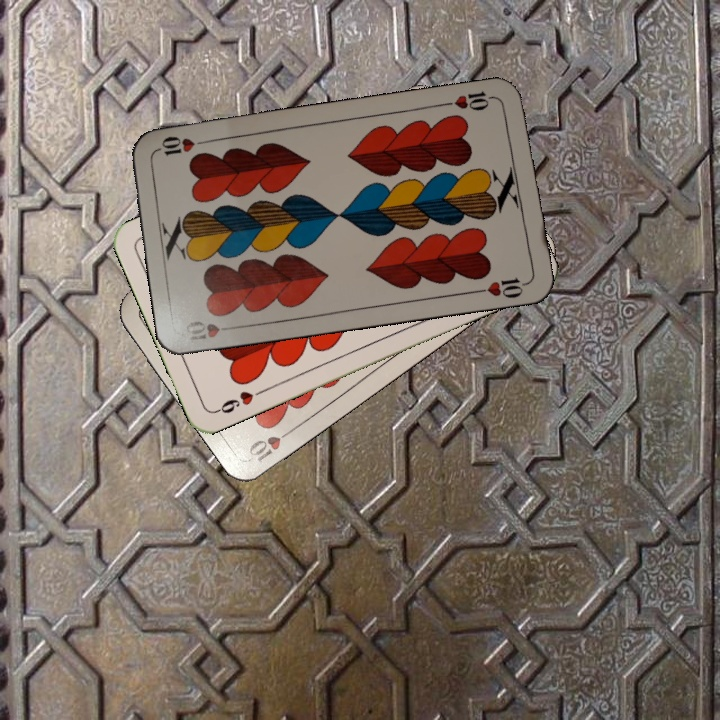H10: (243, 423, 299, 467), (181, 316, 240, 345), (441, 87, 500, 113)
H9: (211, 385, 268, 416)
